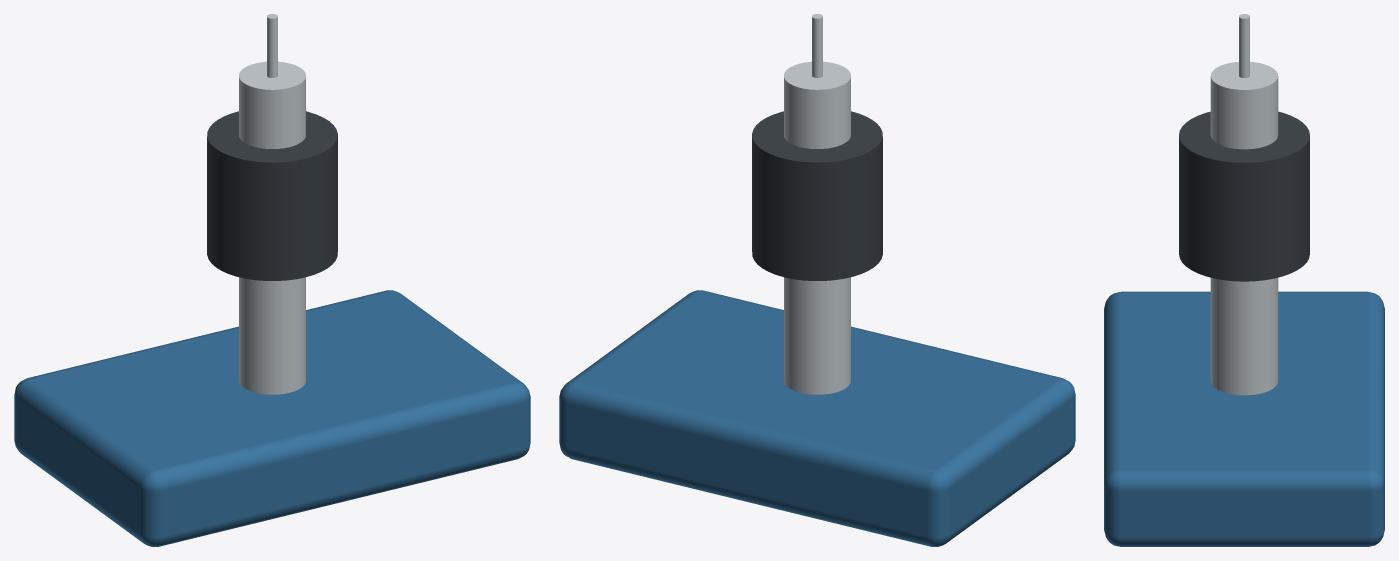
The model's file is fencing-club-and-tournament-piste-mask-tester-a18b4172__31226.glb.
The picture shows the model from 3 angles, left to right: view 1: azimuth 30°, elevation 25°; view 2: azimuth 150°, elevation 25°; view 3: azimuth 270°, elevation 25°; orthographic projection.
Visible parts, largest first — view 1: mask-tester; view 2: mask-tester; view 3: mask-tester.
Part boxes in pixels (x1,y1,x2,y2): mask-tester: [14, 14, 530, 546]; mask-tester: [559, 14, 1075, 546]; mask-tester: [1104, 14, 1384, 546].
Bounding box in the file's own units: 0.24 × 0.26 × 0.15.
